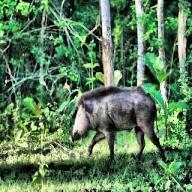boar: (68, 84, 168, 164)
